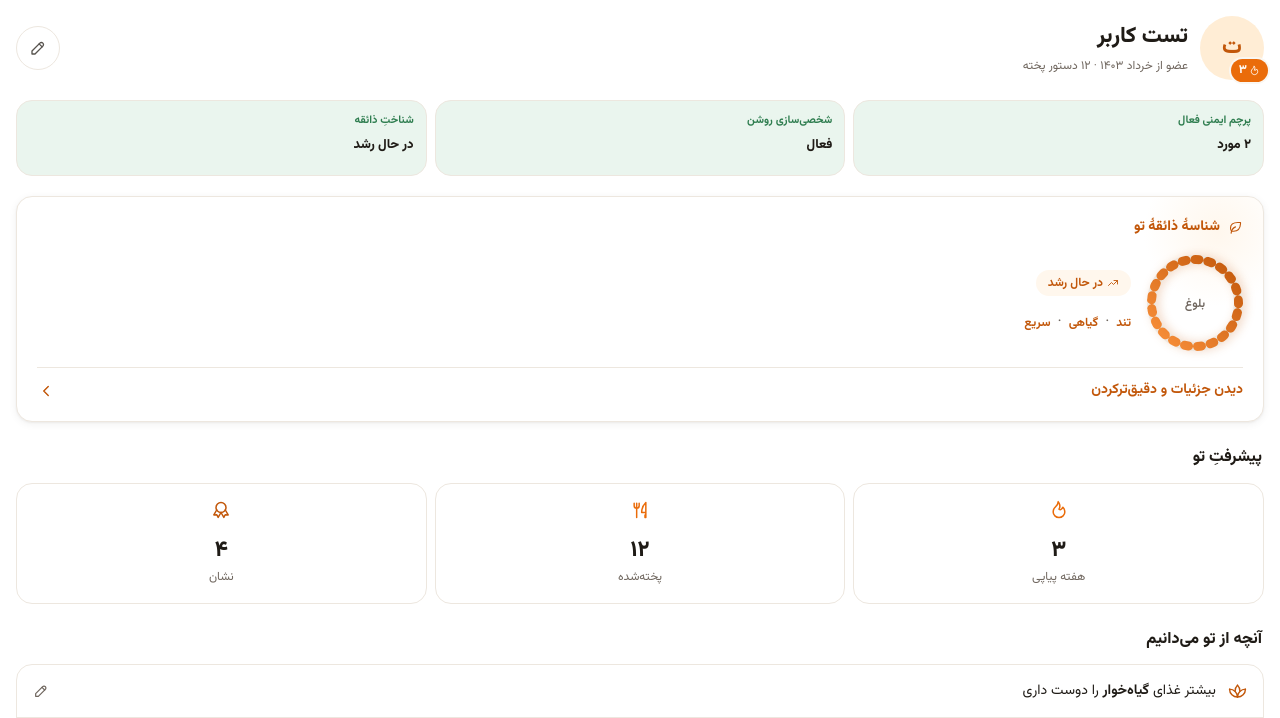
Test: ProfilePage smoke › opens a real profile edit dialog from the pencil button
This screenshot has width=1280, height=718.
Click the button named "ویرایش پروفایل" at (38, 48), box [16,26,60,70]
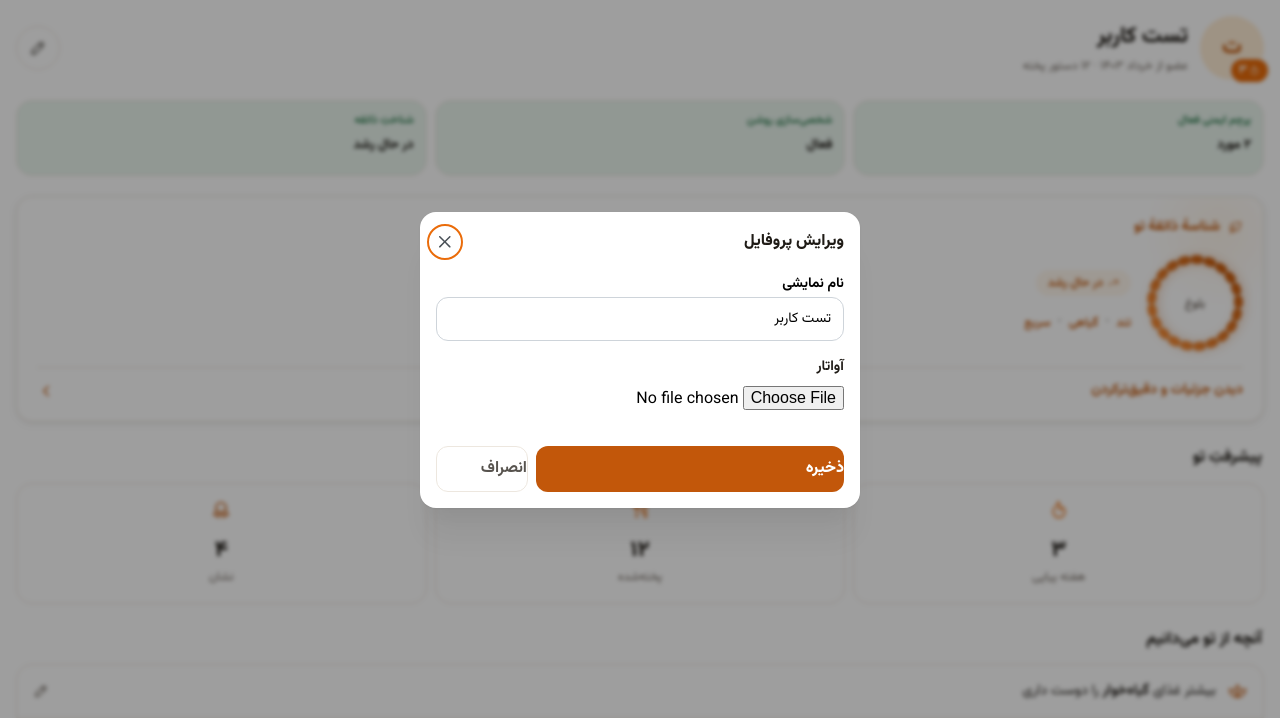
Now the heading "ویرایش پروفایل" is shown, box [744,234,844,250]
Now the field labelled "نام نمایشی" holds "تست کاربر", box [436,296,844,340]
